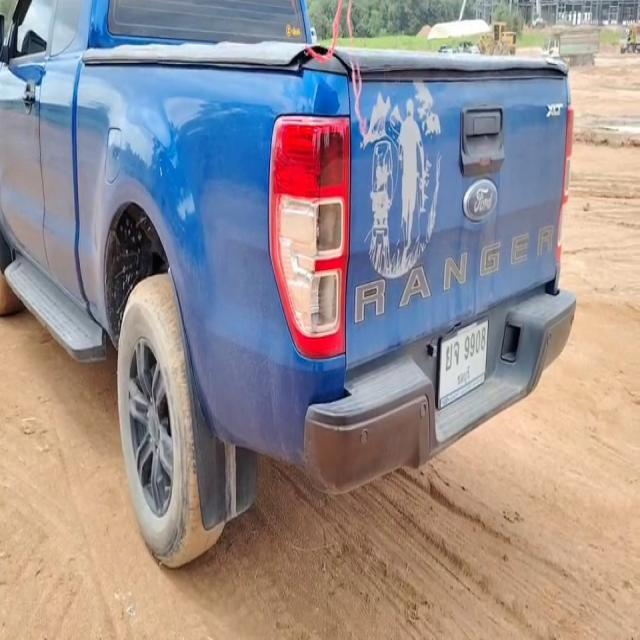Digit: (464, 326, 486, 363)
Licenseplate: (439, 315, 490, 412)
Provincename: (458, 361, 472, 386)
Thaichar: (446, 339, 460, 373)
